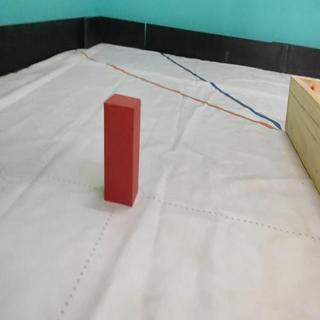redbox: (103, 91, 142, 206)
